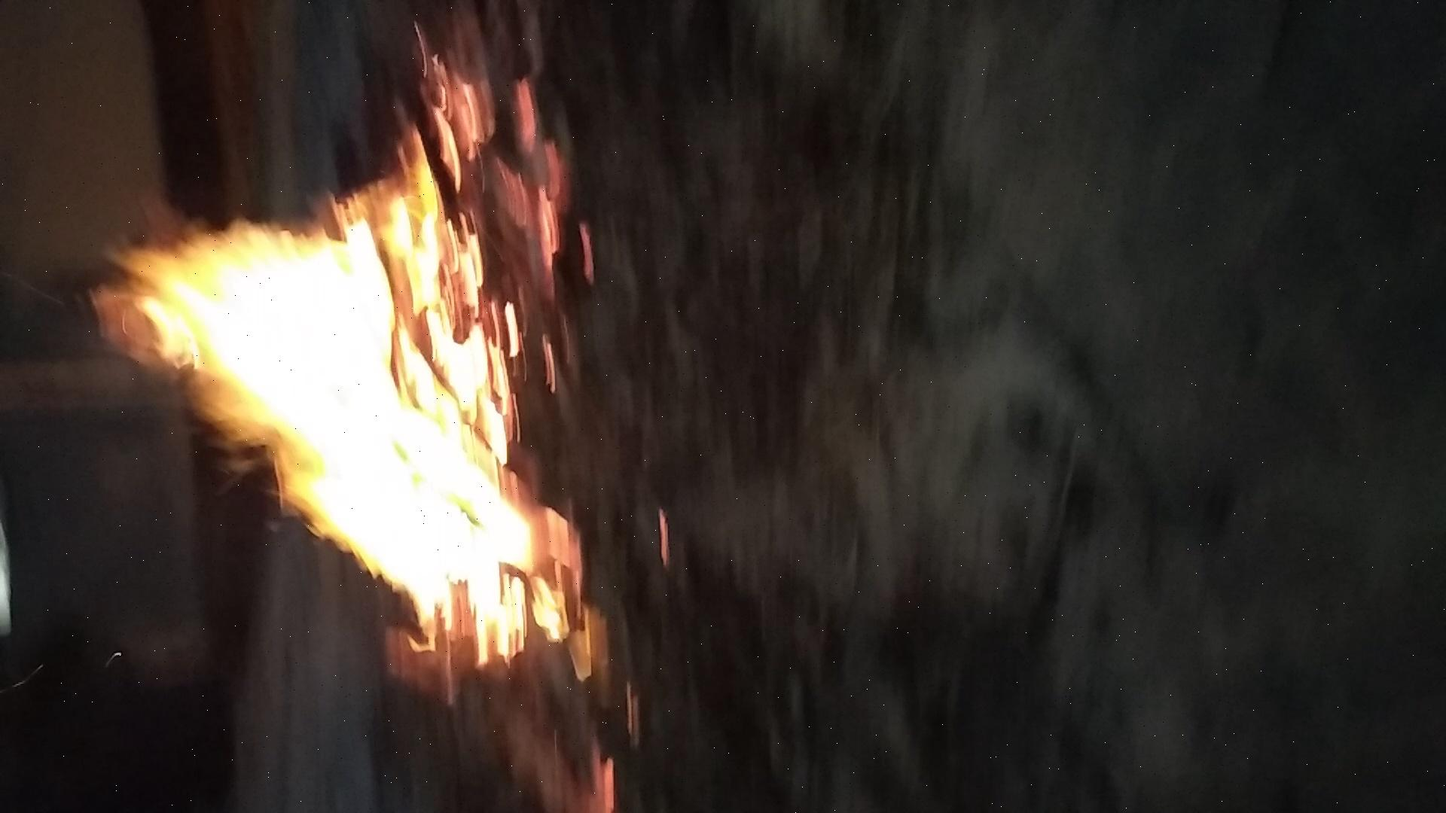fire: (238, 40, 1159, 322)
